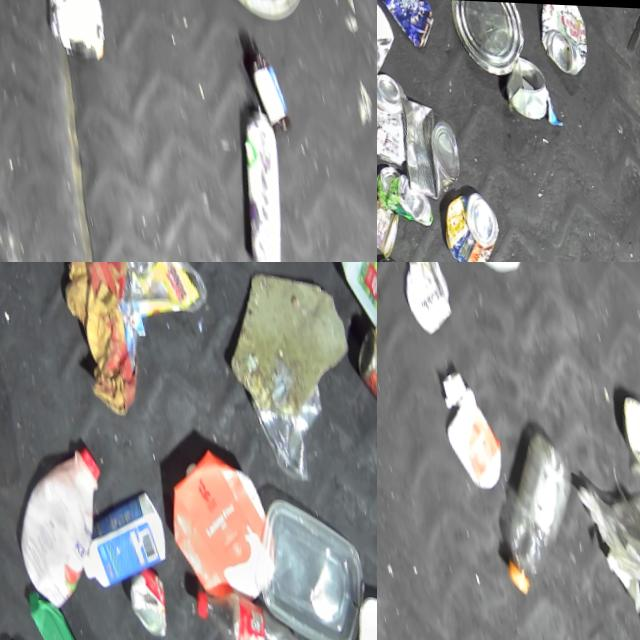can: (215, 95, 305, 262), (387, 84, 468, 203), (444, 0, 533, 80), (434, 182, 507, 262), (528, 0, 596, 76), (377, 65, 420, 168), (377, 154, 434, 231), (119, 561, 172, 640), (497, 46, 553, 118), (346, 313, 377, 438), (377, 0, 440, 54), (613, 383, 640, 470), (377, 191, 406, 257)
non_white_jug: (151, 432, 281, 604), (0, 436, 126, 612), (66, 482, 173, 590)
plastic_bottle: (475, 419, 594, 595), (189, 568, 308, 640)
